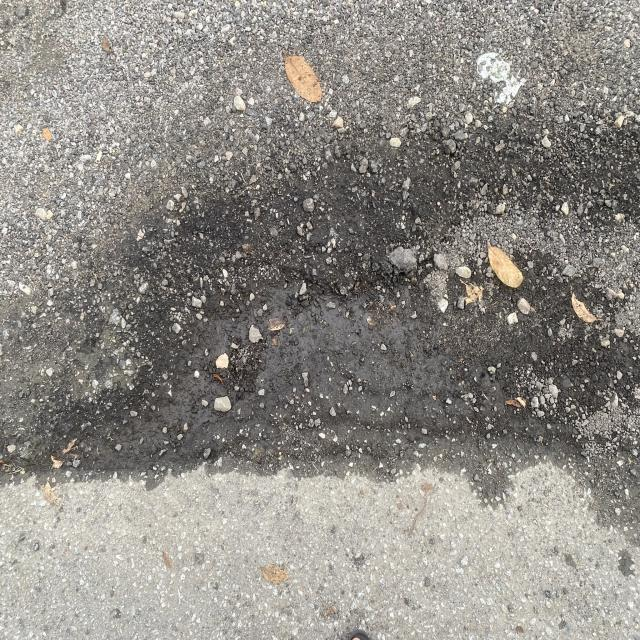Pothole: (77, 231, 477, 468)
